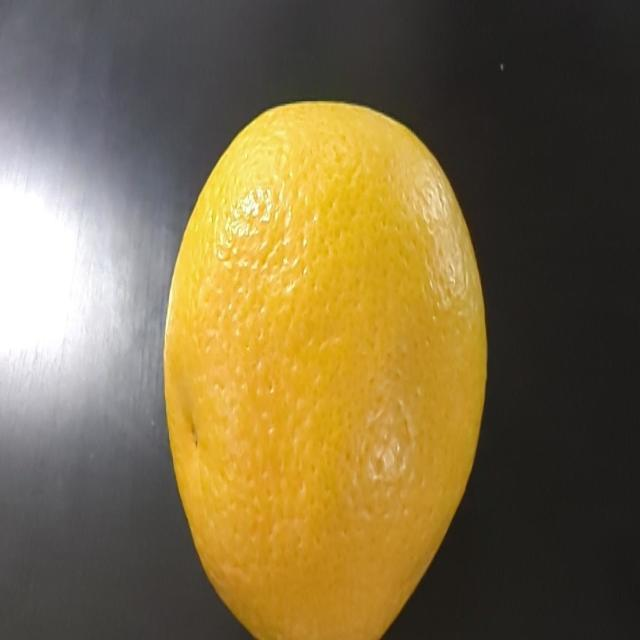Jeruk: (164, 36, 502, 640)
